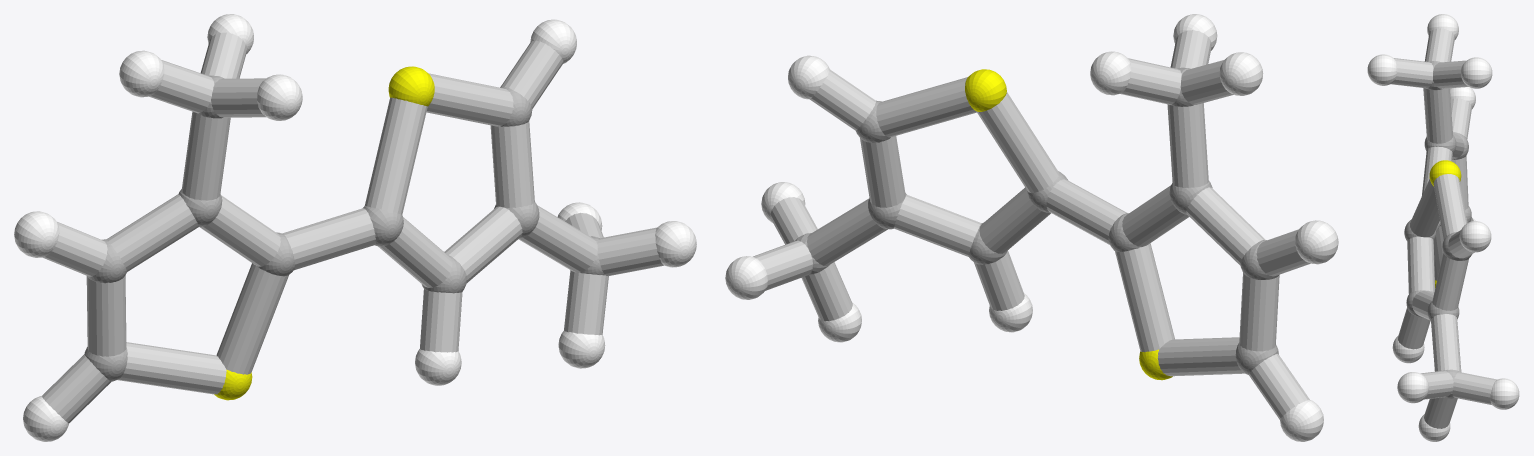
Rendered from Methylthiophene_Phi_25_Theta_350_Methylthiophene.glb.
3 renders of one model, left to right at view 1: azimuth 30°, elevation 25°; view 2: azimuth 150°, elevation 25°; view 3: azimuth 270°, elevation 25°, orthographic. The views are drawn at different scales.
Visible parts, largest first — view 1: grp7965, grp3621, grp1, grp7241; view 2: grp7965, grp3621, grp1, grp7241; view 3: grp7965, grp3621, grp1, grp7241.
Part boxes in pixels (x1=…): grp7965: x1=42, y1=32, x2=663, y2=423; grp3621: x1=14, y1=14, x2=696, y2=441; grp1: x1=84, y1=75, x2=604, y2=381; grp7241: x1=214, y1=66, x2=434, y2=400; grp7965: x1=753, y1=30, x2=1310, y2=419; grp3621: x1=725, y1=14, x2=1338, y2=441; grp1: x1=795, y1=67, x2=1278, y2=374; grp7241: x1=965, y1=69, x2=1172, y2=380; grp7965: x1=1391, y1=28, x2=1496, y2=428; grp3621: x1=1367, y1=14, x2=1519, y2=441; grp1: x1=1404, y1=61, x2=1472, y2=398; grp7241: x1=1429, y1=160, x2=1461, y2=287.
Bounding box in the file's own units: 9.5 × 5.86 × 2.87.
